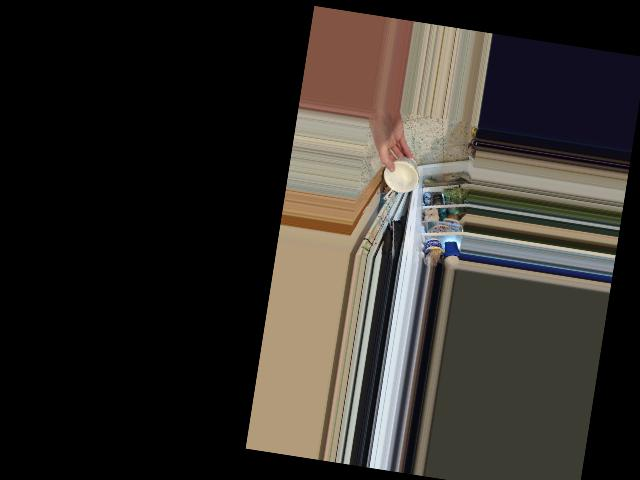cotage: (384, 156, 420, 193)
